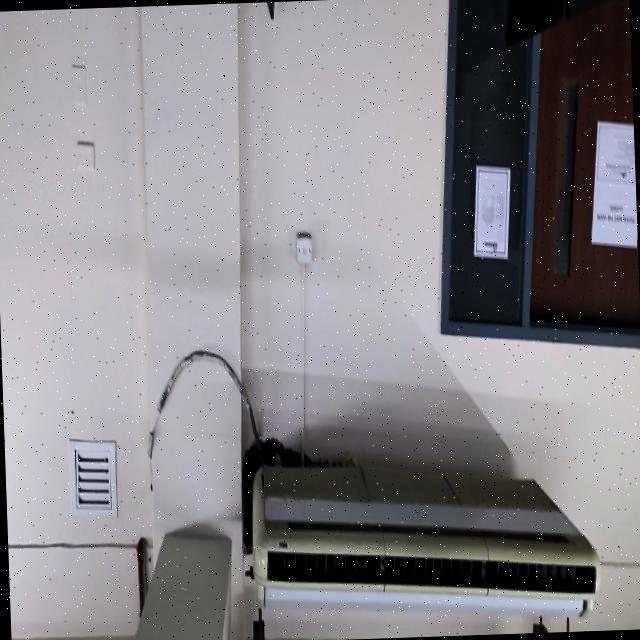Ac: (243, 456, 600, 616)
